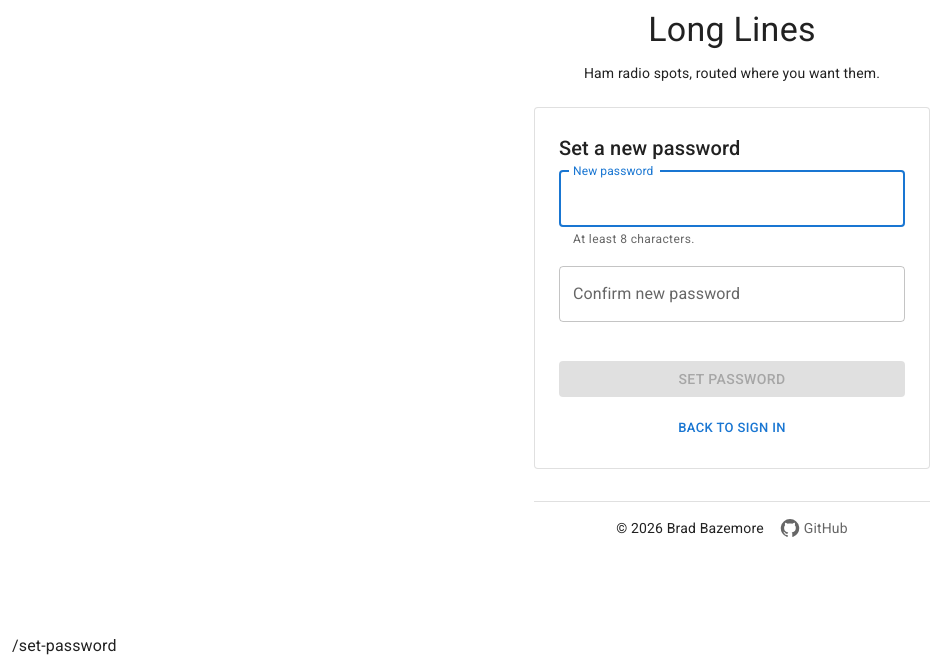
Test: SetPasswordPage › validates length and confirmation
Type "short" into the password field labelled "New password" at [732, 199], box x1=559 y1=171 x2=905 y2=227
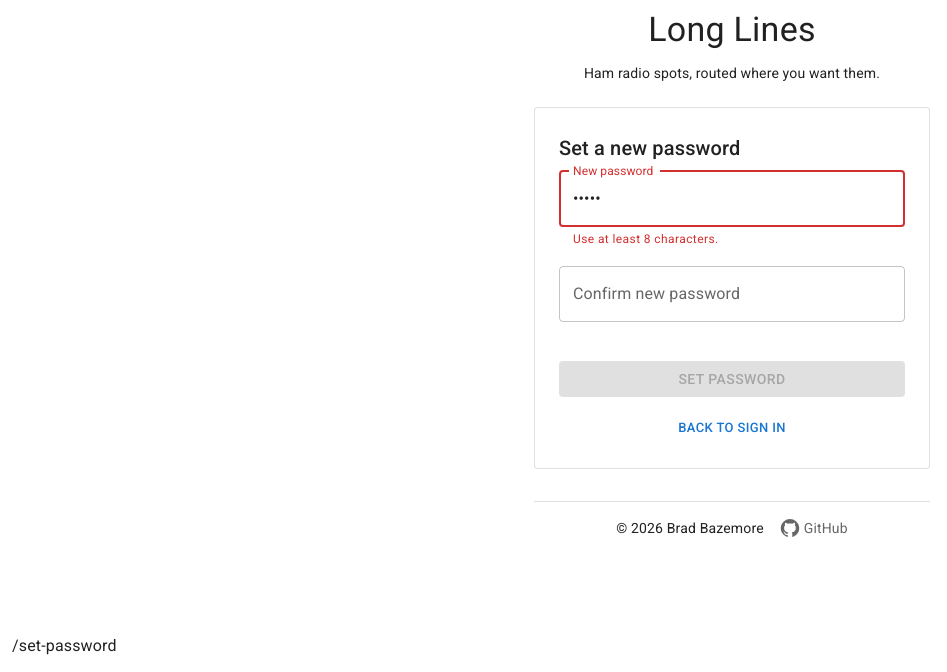
Type "other" into the password field labelled "Confirm new password" at [732, 294], box x1=559 y1=266 x2=905 y2=322
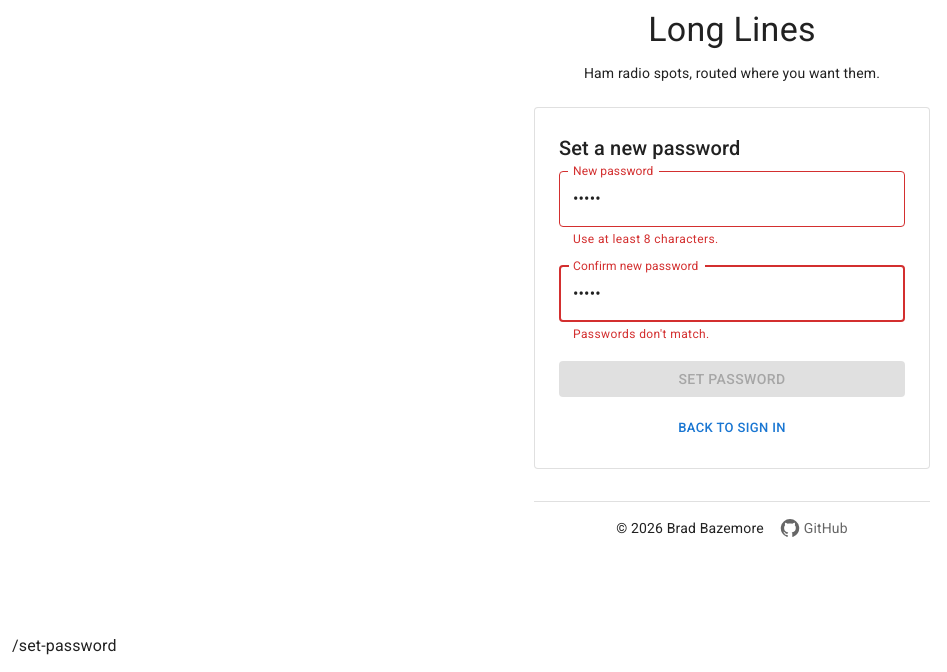
Expected: the button "Set password" is disabled, x1=559 y1=361 x2=905 y2=397
Result: the text "Use at least 8 characters." is shown at x1=573 y1=232 x2=718 y2=246
Result: the text "Passwords don't match." is shown at x1=573 y1=327 x2=710 y2=341
